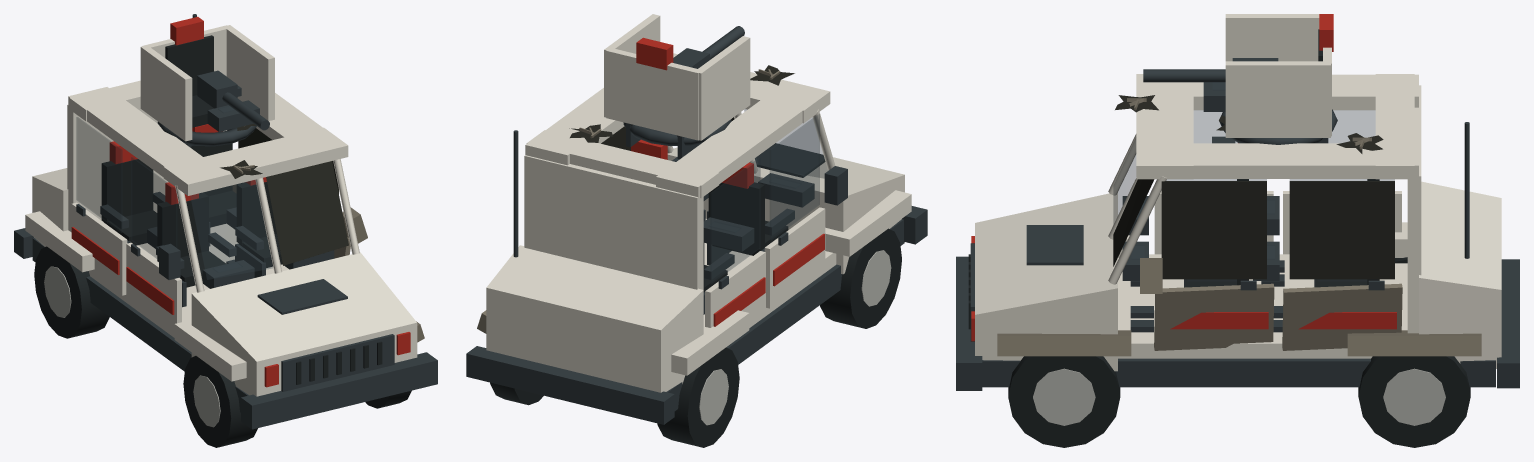
3 renders of one model, left to right at view 1: azimuth 30°, elevation 25°; view 2: azimuth 150°, elevation 25°; view 3: azimuth 270°, elevation 25°, orthographic. The views are drawn at different scales.
Visible parts, largest first — view 1: humvee-damaged-fleet-armor, humvee-damaged-fleet-machine, humvee-damaged-fleet-glass, turret-fleet-armor, humvee-damaged-fleet-damage-charred, crew-chair-driver-painted, crew-chair-rear-left-painted, crew-chair-gunner-painted, wheel--1--1.54-fleet-rubber, crew-chair-passenger-painted, wheel--1-1.52-fleet-rubber, humvee-damaged-fleet-red (+7 smaller); view 2: humvee-damaged-fleet-armor, humvee-damaged-fleet-machine, turret-fleet-armor, humvee-damaged-fleet-glass, crew-chair-driver-painted, wheel--1-1.52-fleet-rubber, wheel--1--1.54-fleet-rubber, crew-chair-rear-left-painted, humvee-damaged-fleet-red, crew-chair-gunner-painted, wheel--1--1.54-fleet-edge, wheel--1-1.52-fleet-edge (+5 smaller); view 3: humvee-damaged-fleet-armor, humvee-damaged-fleet-damage-charred, humvee-damaged-fleet-damage-metal, humvee-damaged-fleet-machine, turret-fleet-armor, wheel-1--1.54-fleet-rubber, wheel-1-1.52-fleet-rubber, humvee-damaged-fleet-glass, humvee-damaged-fleet-red, wheel-1-1.52-fleet-edge, wheel-1--1.54-fleet-edge, crew-chair-passenger-painted (+5 smaller).
Part boxes in pixels (x1,y1,x2,y2): humvee-damaged-fleet-armor: [25, 80, 417, 396]; humvee-damaged-fleet-machine: [14, 14, 437, 429]; humvee-damaged-fleet-glass: [76, 117, 272, 279]; turret-fleet-armor: [140, 25, 274, 141]; humvee-damaged-fleet-damage-charred: [220, 123, 348, 265]; crew-chair-driver-painted: [156, 182, 254, 307]; crew-chair-rear-left-painted: [100, 141, 165, 248]; crew-chair-gunner-painted: [165, 16, 259, 146]; wheel--1--1.54-fleet-rubber: [34, 246, 109, 338]; crew-chair-passenger-painted: [235, 177, 334, 277]; wheel--1-1.52-fleet-rubber: [183, 356, 257, 447]; humvee-damaged-fleet-red: [71, 227, 410, 387]; humvee-damaged-fleet-armor: [486, 53, 911, 392]; humvee-damaged-fleet-machine: [466, 130, 927, 424]; turret-fleet-armor: [604, 14, 750, 140]; humvee-damaged-fleet-glass: [710, 109, 827, 283]; crew-chair-driver-painted: [707, 162, 814, 265]; wheel--1-1.52-fleet-rubber: [820, 228, 901, 328]; wheel--1--1.54-fleet-rubber: [657, 347, 739, 447]; crew-chair-rear-left-painted: [703, 217, 754, 314]; humvee-damaged-fleet-red: [713, 233, 824, 326]; crew-chair-gunner-painted: [626, 37, 701, 159]; wheel--1--1.54-fleet-edge: [699, 369, 728, 425]; wheel--1-1.52-fleet-edge: [861, 250, 891, 306]; humvee-damaged-fleet-armor: [975, 74, 1501, 371]; humvee-damaged-fleet-damage-charred: [1113, 95, 1394, 279]; humvee-damaged-fleet-damage-metal: [997, 98, 1481, 356]; humvee-damaged-fleet-machine: [956, 122, 1519, 390]; turret-fleet-armor: [1225, 14, 1331, 137]; wheel-1--1.54-fleet-rubber: [1358, 356, 1470, 447]; wheel-1-1.52-fleet-rubber: [1008, 356, 1120, 447]; humvee-damaged-fleet-glass: [1113, 110, 1394, 223]; humvee-damaged-fleet-red: [971, 236, 1396, 341]; wheel-1-1.52-fleet-edge: [1033, 368, 1095, 425]; wheel-1--1.54-fleet-edge: [1383, 368, 1445, 425]; crew-chair-passenger-painted: [1122, 241, 1248, 332].
Bounding box in the file's own units: 12.87 × 19.62 × 26.84.
